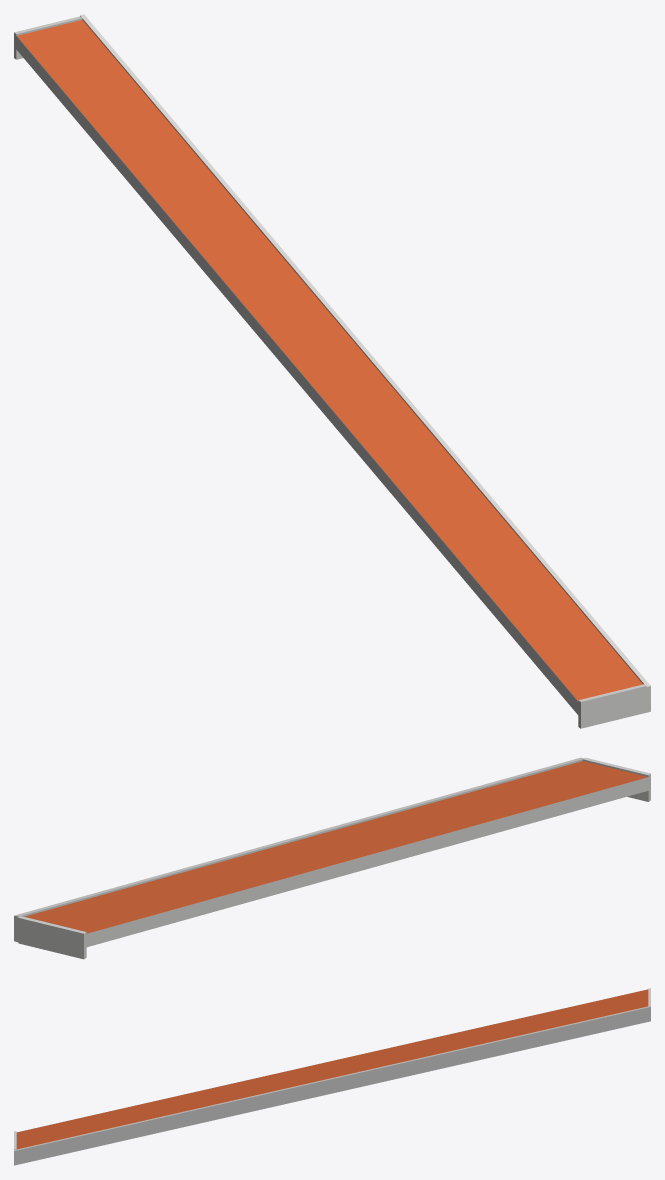
Rendered from telhado_meia_agua_empena_dir_v6_i25.glb.
3 renders of one model, top to bottom at view 1: azimuth 30°, elevation 25°; view 2: azimuth 150°, elevation 25°; view 3: azimuth 270°, elevation 25°, orthographic. The views are drawn at different scales.
Visible parts, largest first — view 1: telhado_meia_agua_empena_dir_v6_i25; view 2: telhado_meia_agua_empena_dir_v6_i25; view 3: telhado_meia_agua_empena_dir_v6_i25.
Part boxes in pixels (bbox=[...]): telhado_meia_agua_empena_dir_v6_i25: bbox=[14, 14, 650, 728]; telhado_meia_agua_empena_dir_v6_i25: bbox=[14, 757, 650, 959]; telhado_meia_agua_empena_dir_v6_i25: bbox=[14, 988, 650, 1165].
Size of the model in its own units: 0.5 by 1.92 by 7.
